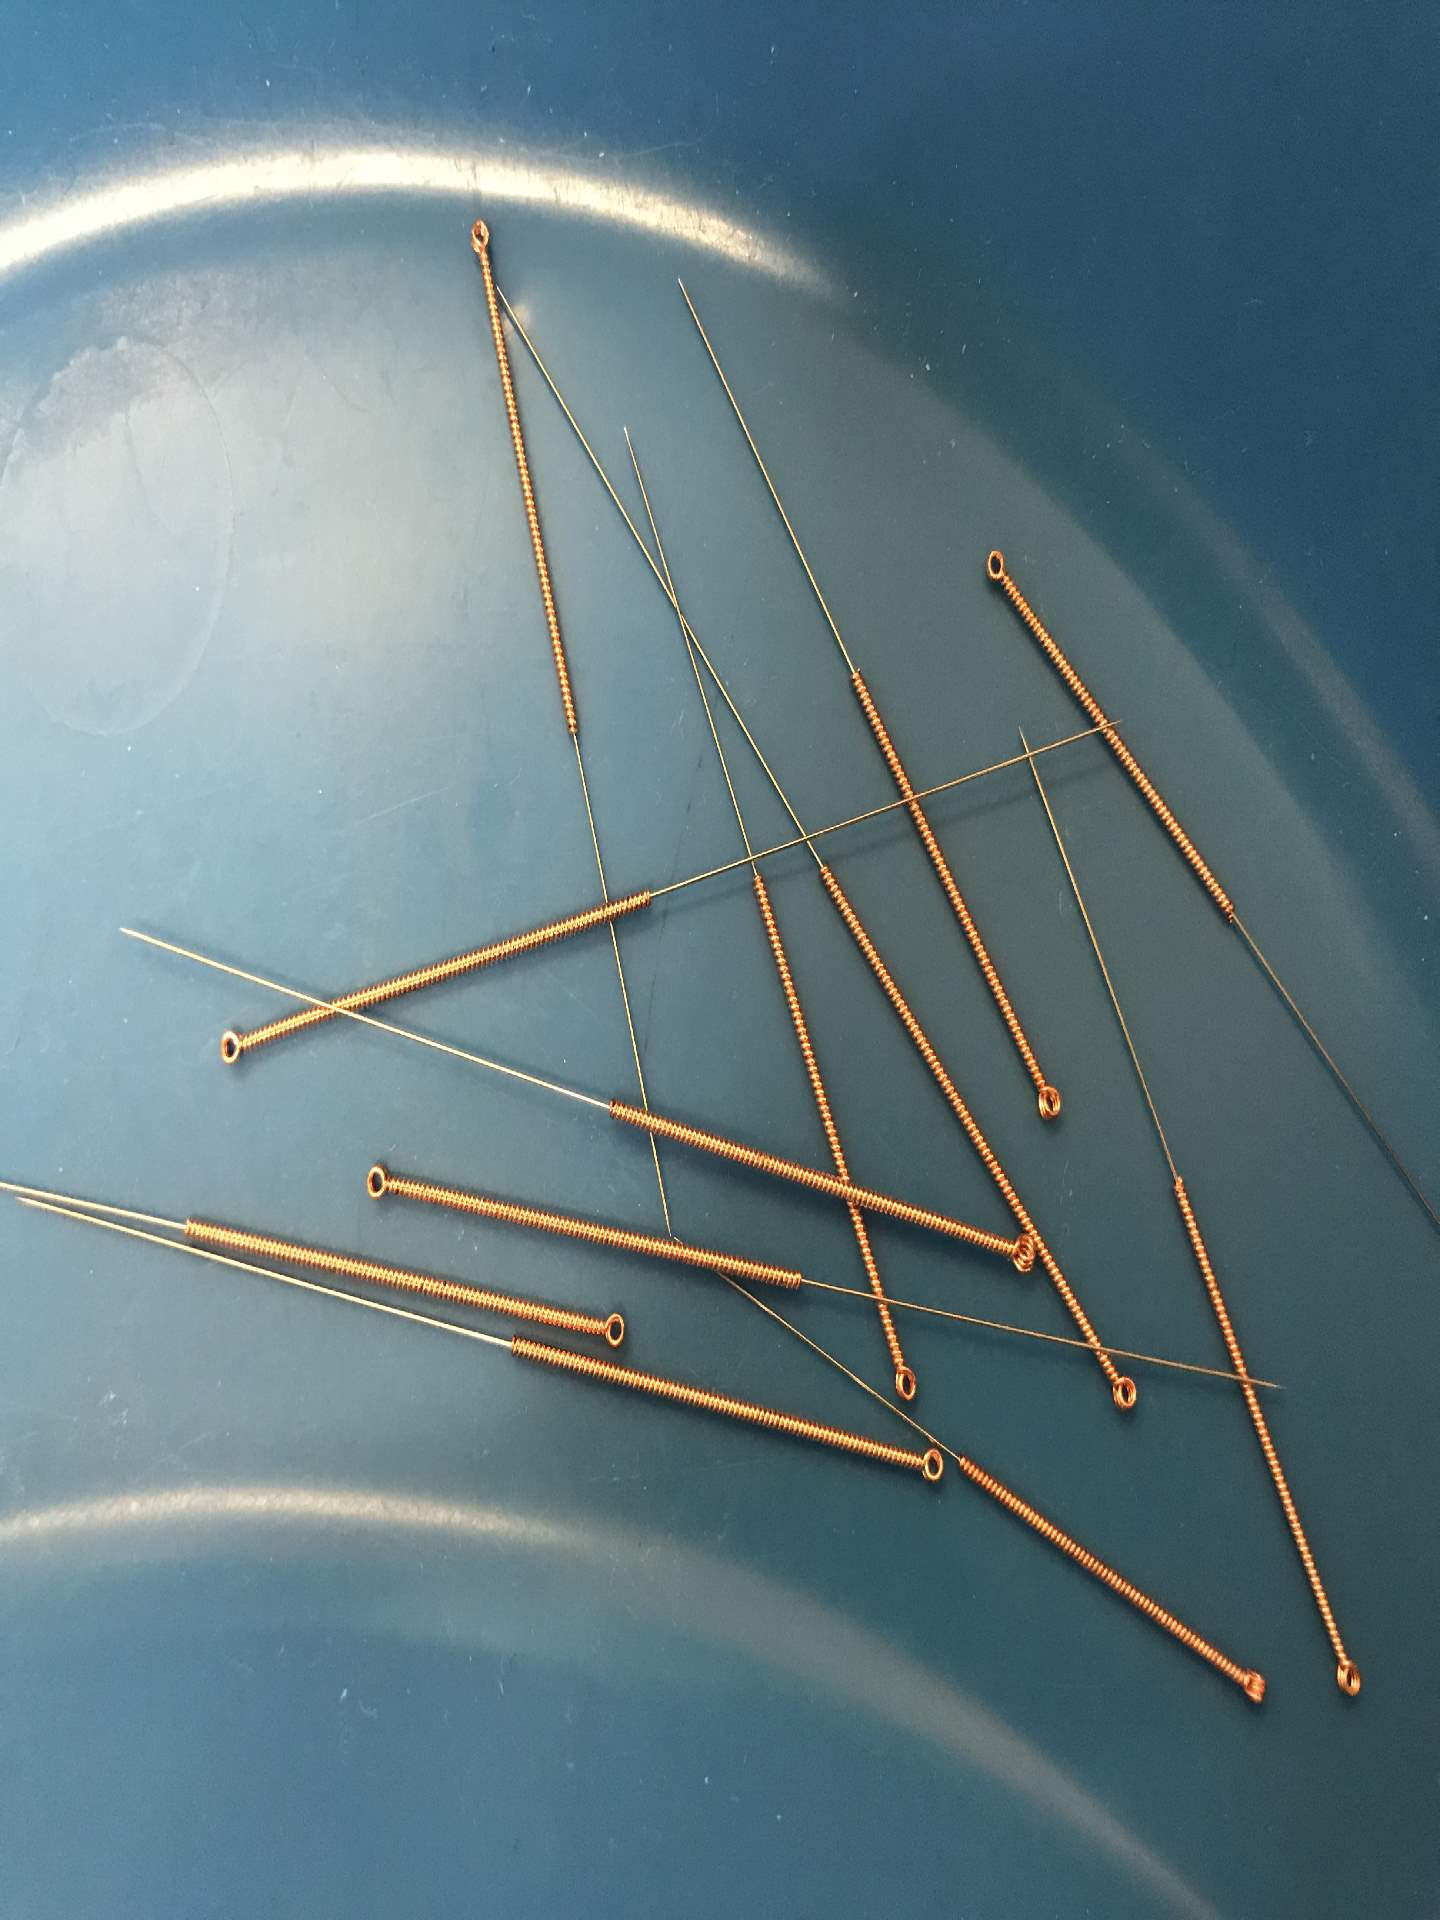needle: (201, 1011, 269, 1079), (1021, 1058, 1075, 1137), (1321, 1634, 1375, 1713), (1224, 1648, 1280, 1723), (454, 203, 510, 277), (1091, 1353, 1150, 1423), (346, 1150, 408, 1215), (873, 1336, 929, 1407), (976, 1228, 1039, 1290), (968, 534, 1024, 603), (576, 1296, 640, 1355), (897, 1438, 951, 1497)
